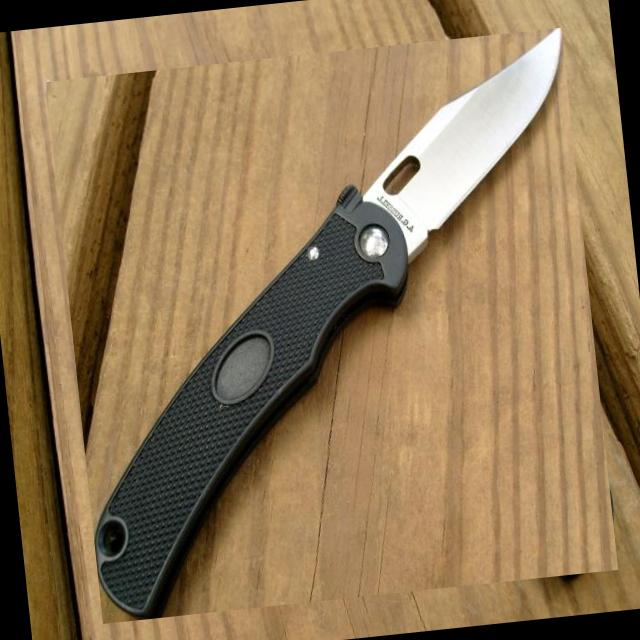Knife: (95, 27, 562, 619)
